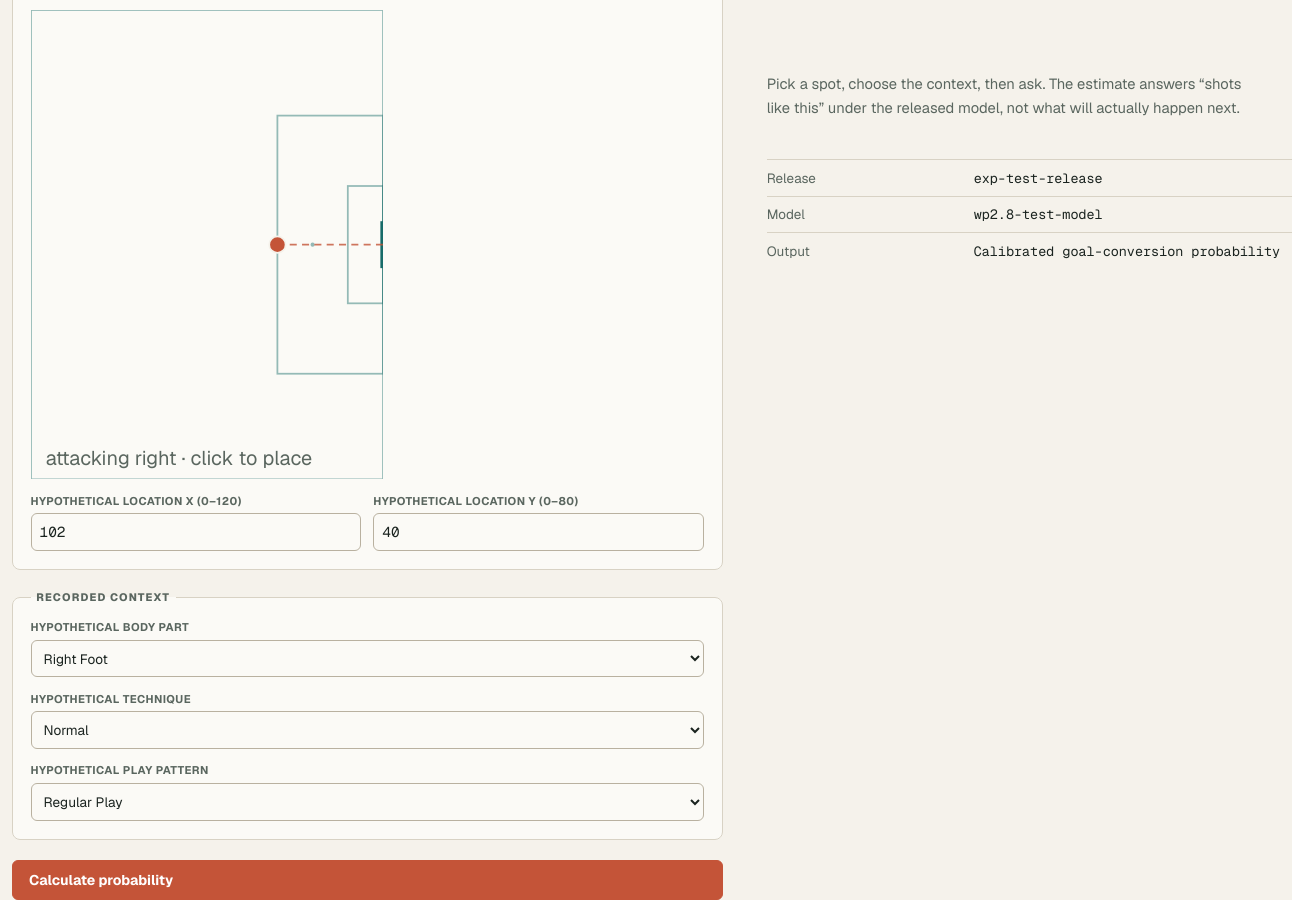
PredictionPlayground › surfaces a plain failure for a network or server outage
(page scrolled)
Click the button "Calculate probability". click: coordinates (101, 880)
box: [12,860,723,899]
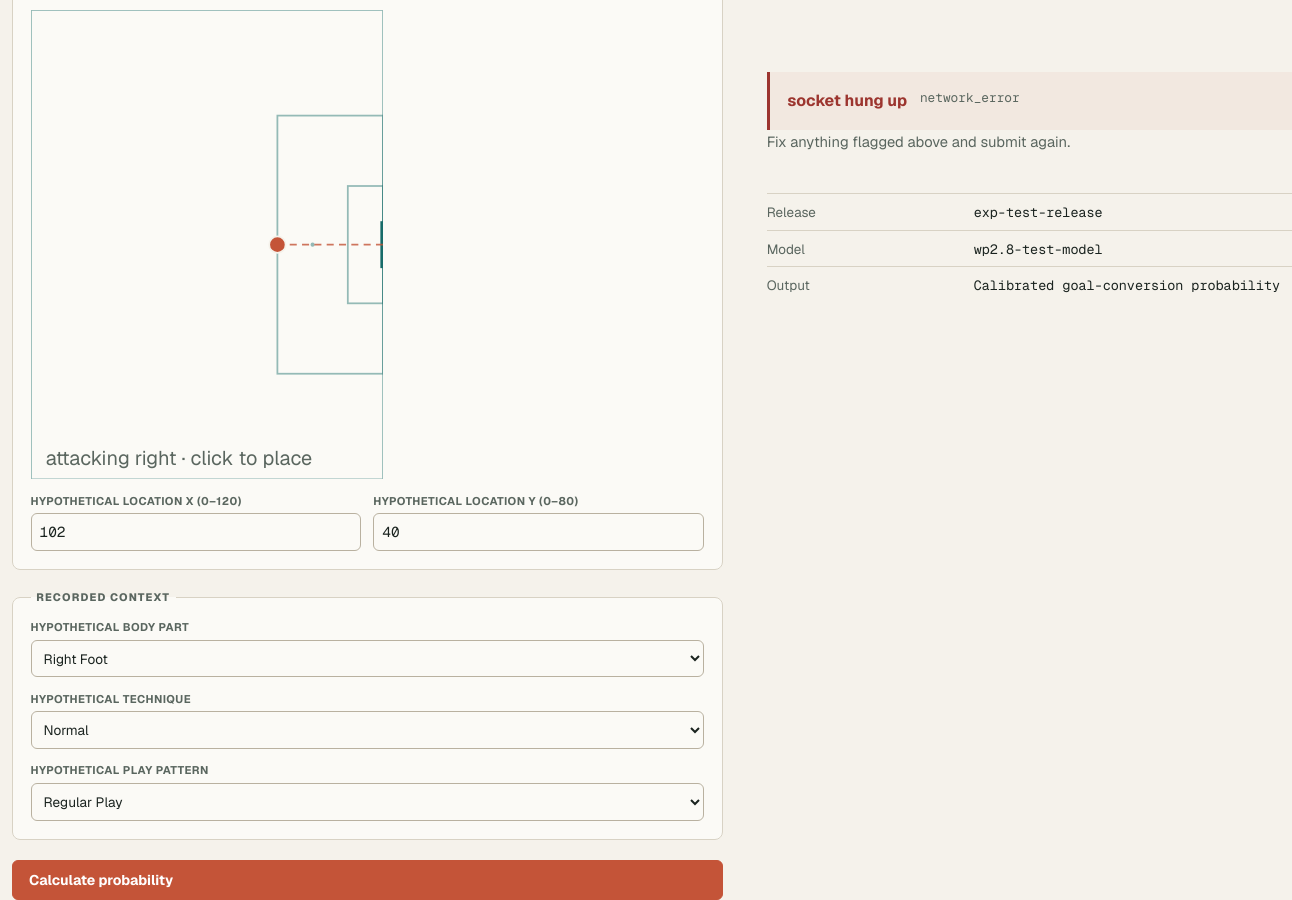
Result: the text "network_error" is shown at [920,88,1020,114]
Result: the text "Fix anything flagged above and submit again." is shown at [767,132,1070,151]
